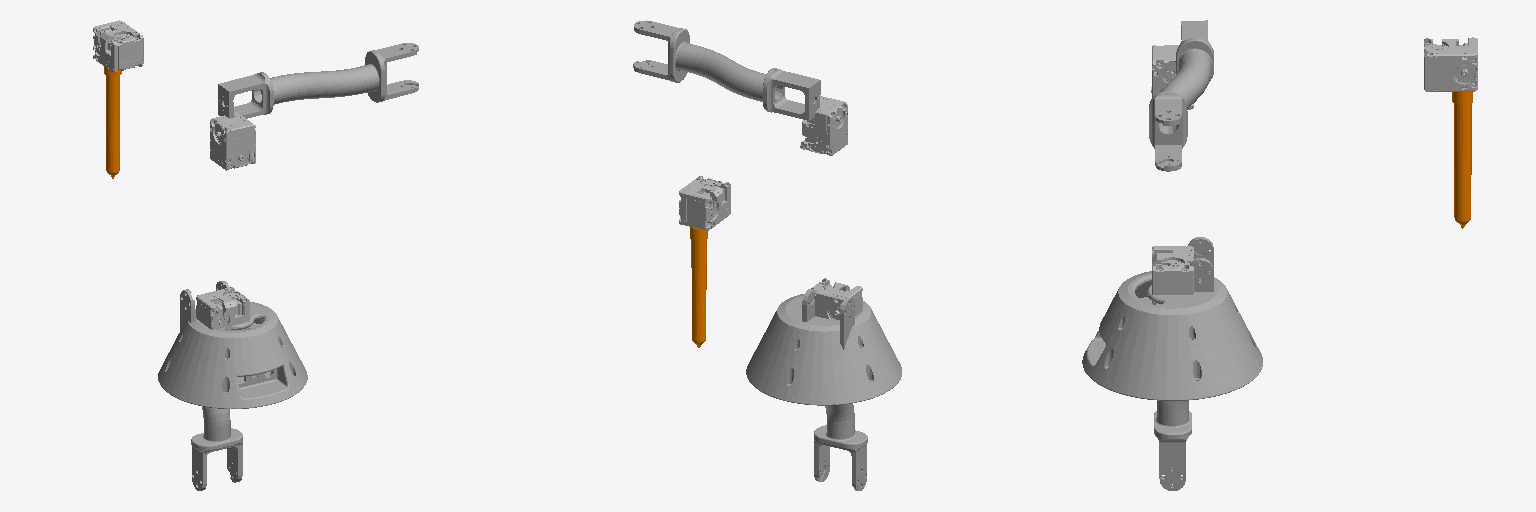
robot.urdf — manipulator:
<?xml version="1.0" encoding="utf-8"?>
<!-- This URDF was automatically created by SolidWorks to URDF Exporter! Originally created by [author] ([email redacted]) 
     Commit Version: 1.6.0-4-g7f85cfe  Build Version: 1.6.7995.38578
     For more information, please see http://wiki.ros.org/sw_urdf_exporter -->
<robot
  name="manipulator">
  <!-- Fix robot to Gazebo world -->
    <link name="world" />
    <joint name="world-base_link-fixed" type="fixed">
        <parent link="world" />
        <child link="base_link" />
        <origin rpy="0.0 0.0 0.0" xyz="0.0 0.0 0.0" />
    </joint>
  
  <link
    name="base_link">
    <inertial>
      <origin
        xyz="5.34102915090225E-06 0.00149611119634718 0.027324411040906"
        rpy="0 0 0" />
      <mass
        value="0.391381454473344" />
      <inertia
        ixx="0"
        ixy="0"
        ixz="0"
        iyy="0"
        iyz="0"
        izz="0" />
    </inertial>
    <visual>
      <origin
        xyz="0 0 0"
        rpy="0 0 0" />
      <geometry>
        <mesh
          filename="package://manipulator_description/meshes/base_link.STL" />
      </geometry>
      <material
        name="">
        <color
          rgba="0.698039215686274 0.698039215686274 0.698039215686274 1" />
      </material>
    </visual>
    <collision>
      <origin
        xyz="0 0 0"
        rpy="0 0 0" />
      <geometry>
        <mesh
          filename="package://manipulator_description/meshes/base_link.STL" />
      </geometry>
    </collision>
  </link>
  <link
    name="link_1">
    <inertial>
      <origin
        xyz="0.000495971250250978 -0.0119998499605218 0.0204959033777655"
        rpy="0 0 0" />
      <mass
        value="0.102" />
      <inertia
        ixx="0"
        ixy="0"
        ixz="0"
        iyy="0"
        iyz="0"
        izz="0" />
    </inertial>
    <visual>
      <origin
        xyz="0 0 0"
        rpy="0 0 0" />
      <geometry>
        <mesh
          filename="package://manipulator_description/meshes/link_1.STL" />
      </geometry>
      <material
        name="">
        <color
          rgba="0.752941176470588 0.752941176470588 0.752941176470588 1" />
      </material>
    </visual>
    <collision>
      <origin
        xyz="0 0 0"
        rpy="0 0 0" />
      <geometry>
        <mesh
          filename="package://manipulator_description/meshes/link_1.STL" />
      </geometry>
    </collision>
  </link>
  <joint
    name="joint_1"
    type="revolute">
    <origin
      xyz="0 0 0.0688"
      rpy="0 0 3.1416" />
    <parent
      link="base_link" />
    <child
      link="link_1" />
    <axis
      xyz="0 0 1" />
    <limit
      lower="-1.57"
      upper="1.57"
      effort="300"
      velocity="3" />
  </joint>
  <link
    name="link_2">
    <inertial>
      <origin
        xyz="-0.0117522388524779 0.099865169344438 3.09623365025784E-07"
        rpy="0 0 0" />
      <mass
        value="0.102283747087815" />
      <inertia
        ixx="512810000"
        ixy="108850000"
        ixz="380"
        iyy="56237000"
        iyz="2370"
        izz="523870000" />
    </inertial>
    <visual>
      <origin
        xyz="0 0 0"
        rpy="0 0 0" />
      <geometry>
        <mesh
          filename="package://manipulator_description/meshes/link_2.STL" />
      </geometry>
      <material
        name="">
        <color
          rgba="0.698039215686274 0.698039215686274 0.698039215686274 1" />
      </material>
    </visual>
    <collision>
      <origin
        xyz="0 0 0"
        rpy="0 0 0" />
      <geometry>
        <mesh
          filename="package://manipulator_description/meshes/link_2.STL" />
      </geometry>
    </collision>
  </link>
  <joint
    name="joint_2"
    type="revolute">
    <origin
      xyz="0 -0.024 0.02"
      rpy="1.5708 0 -1.5708" />
    <parent
      link="link_1" />
    <child
      link="link_2" />
    <axis
      xyz="0 0 1" />
    <limit
      lower="-0.78"
      upper="0.78"
      effort="300"
      velocity="3" />
  </joint>
  <link
    name="link_3">
    <inertial>
      <origin
        xyz="0.000495971402698712 -0.0119998503185919 0.000495878377765541"
        rpy="0 0 0" />
      <mass
        value="0.102" />
      <inertia
        ixx="26860"
        ixy="525.09"
        ixz="287.62"
        iyy="16993"
        iyz="-523.85"
        izz="26995" />
    </inertial>
    <visual>
      <origin
        xyz="0 0 0"
        rpy="0 0 0" />
      <geometry>
        <mesh
          filename="package://manipulator_description/meshes/link_3.STL" />
      </geometry>
      <material
        name="">
        <color
          rgba="0.752941176470588 0.752941176470588 0.752941176470588 1" />
      </material>
    </visual>
    <collision>
      <origin
        xyz="0 0 0"
        rpy="0 0 0" />
      <geometry>
        <mesh
          filename="package://manipulator_description/meshes/link_3.STL" />
      </geometry>
    </collision>
  </link>
  <joint
    name="joint_3"
    type="revolute">
    <origin
      xyz="-0.024 0.195 0"
      rpy="0 0 3.1416" />
    <parent
      link="link_2" />
    <child
      link="link_3" />
    <axis
      xyz="0 0 1" />
    <limit
      lower="-1.15"
      upper="2"
      effort="300"
      velocity="3" />
  </joint>
  <link
    name="link_4">
    <inertial>
      <origin
        xyz="0.0118962971363374 0.106115026058573 4.33165647320523E-07"
        rpy="0 0 0" />
      <mass
        value="0.105070462984835" />
      <inertia
        ixx="1573100000"
        ixy="195670000"
        ixz="40"
        iyy="51205000"
        iyz="1350"
        izz="1589800000"/>
    </inertial>
    <visual>
      <origin
        xyz="0 0 0"
        rpy="0 0 0" />
      <geometry>
        <mesh
          filename="package://manipulator_description/meshes/link_4.STL" />
      </geometry>
      <material
        name="">
        <color
          rgba="0.698039215686274 0.698039215686274 0.698039215686274 1" />
      </material>
    </visual>
    <collision>
      <origin
        xyz="0 0 0"
        rpy="0 0 0" />
      <geometry>
        <mesh
          filename="package://manipulator_description/meshes/link_4.STL" />
      </geometry>
    </collision>
  </link>
  <joint
    name="joint_4"
    type="revolute">
    <origin
      xyz="-0.019 -0.024 0"
      rpy="0 0 1.5708" />
    <parent
      link="link_3" />
    <child
      link="link_4" />
    <axis
      xyz="0 1 0" />
    <limit
      lower="-3.14"
      upper="3.14"
      effort="200"
      velocity="3" />
  </joint>
  <link
    name="link_5">
    <inertial>
      <origin
        xyz="0.000495971250250887 0.0120001503975483 0.000495878530213656"
        rpy="0 0 0" />
      <mass
        value="0.0982" />
      <inertia
        ixx="26860"
        ixy="525.09"
        ixz="287.62"
        iyy="16993"
        iyz="-523.85"
        izz="26995" />
    </inertial>
    <visual>
      <origin
        xyz="0 0 0"
        rpy="0 0 0" />
      <geometry>
        <mesh
          filename="package://manipulator_description/meshes/link_5.STL" />
      </geometry>
      <material
        name="">
        <color
          rgba="0.752941176470588 0.752941176470588 0.752941176470588 1" />
      </material>
    </visual>
    <collision>
      <origin
        xyz="0 0 0"
        rpy="0 0 0" />
      <geometry>
        <mesh
          filename="package://manipulator_description/meshes/link_5.STL" />
      </geometry>
    </collision>
  </link>
  <joint
    name="joint_5"
    type="revolute">
    <origin
      xyz="0.024 0.2085 0"
      rpy="0 -1.5708 0" />
    <parent
      link="link_4" />
    <child
      link="link_5" />
    <axis
      xyz="1 0 0" />
    <limit
      lower="-1.15"
      upper="2"
      effort="200"
      velocity="3" />
  </joint>
  <link
    name="link_6">
    <inertial>
      <origin
        xyz="1.27935106952748E-10 -1.49986290117875E-05 0.0091913137007949"
        rpy="0 0 0" />
      <mass
        value="0.00405886351711359" />
      <inertia
        ixx="3316900"
        ixy="-10"
        ixz="0"
        iyy="3315500"
        iyz="0"
        izz="185540" />
    </inertial>
    <visual>
      <origin
        xyz="0 0 0"
        rpy="0 0 0" />
      <geometry>
        <mesh
          filename="package://manipulator_description/meshes/link_6.STL" />
      </geometry>
      <material
        name="">
        <color
          rgba="1 0.549019607843137 0 1" />
      </material>
    </visual>
    <collision>
      <origin
        xyz="0 0 0"
        rpy="0 0 0" />
      <geometry>
        <mesh
          filename="package://manipulator_description/meshes/link_6.STL" />
      </geometry>
    </collision>
  </link>
  <joint
    name="joint_6"
    type="revolute">
    <origin
      xyz="0 0.024 -0.019"
      rpy="3.1416 0 -1.5354" />
    <parent
      link="link_5" />
    <child
      link="link_6" />
    <axis
      xyz="0 0 1" />
    <limit
      lower="-3.14"
      upper="3.14"
      effort="200"
      velocity="3" />
  </joint>

   <!-- transmission list -->
  <transmission name="link_1_trans">
    <type>transmission_interface/SimpleTransmission</type>
    <joint name="joint_1">
      <hardwareInterface>hardware_interface/PositionJointInterface</hardwareInterface>
    </joint>
    <actuator name="link_1_motor">
      <hardwareInterface>hardware_interface/PositionJointInterface</hardwareInterface>
      <mechanicalReduction>1</mechanicalReduction>
    </actuator>
  </transmission>
  <transmission name="link_2_trans">
    <type>transmission_interface/SimpleTransmission</type>
    <joint name="joint_2">
      <hardwareInterface>hardware_interface/PositionJointInterface</hardwareInterface>
    </joint>
    <actuator name="link_2_motor">
      <hardwareInterface>hardware_interface/PositionJointInterface</hardwareInterface>
      <mechanicalReduction>1</mechanicalReduction>
    </actuator>
  </transmission>
  <transmission name="link_3_trans">
    <type>transmission_interface/SimpleTransmission</type>
    <joint name="joint_3">
      <hardwareInterface>hardware_interface/PositionJointInterface</hardwareInterface>
    </joint>
    <actuator name="link_3_motor">
      <hardwareInterface>hardware_interface/PositionJointInterface</hardwareInterface>
      <mechanicalReduction>1</mechanicalReduction>
    </actuator>
  </transmission>
  <transmission name="link_4_trans">
    <type>transmission_interface/SimpleTransmission</type>
    <joint name="joint_4">
      <hardwareInterface>hardware_interface/PositionJointInterface</hardwareInterface>
    </joint>
    <actuator name="link_4_motor">
      <hardwareInterface>hardware_interface/PositionJointInterface</hardwareInterface>
      <mechanicalReduction>1</mechanicalReduction>
    </actuator>
  </transmission>
  <transmission name="link_5_trans">
    <type>transmission_interface/SimpleTransmission</type>
    <joint name="joint_5">
      <hardwareInterface>hardware_interface/PositionJointInterface</hardwareInterface>
    </joint>
    <actuator name="link_5_motor">
      <hardwareInterface>hardware_interface/PositionJointInterface</hardwareInterface>
      <mechanicalReduction>1</mechanicalReduction>
    </actuator>
  </transmission>
  <transmission name="link_6_trans">
    <type>transmission_interface/SimpleTransmission</type>
    <joint name="joint_6">
      <hardwareInterface>hardware_interface/PositionJointInterface</hardwareInterface>
    </joint>
    <actuator name="link_6_motor">
      <hardwareInterface>hardware_interface/PositionJointInterface</hardwareInterface>
      <mechanicalReduction>1</mechanicalReduction>
    </actuator>
  </transmission>
  <!-- end of transmission list -->

  
  <!-- Gazebo-specific link properties -->
  <gazebo reference="link_1">
    <selfCollide>true</selfCollide>
    <material>Gazebo/Black</material>
  </gazebo>
  <gazebo reference="link_2">
    <selfCollide>true</selfCollide>
    <material>Gazebo/Orange</material>
  </gazebo>
  <gazebo reference="link_3">
    <selfCollide>true</selfCollide>
    <material>Gazebo/Black</material>
  </gazebo>
  <gazebo reference="link_4">
    <selfCollide>true</selfCollide>
    <material>Gazebo/Orange</material>
  </gazebo>
  <gazebo reference="link_5">
    <selfCollide>true</selfCollide>
    <material>Gazebo/Black</material>
  </gazebo>
  <gazebo reference="link_6">
    <selfCollide>true</selfCollide>
  </gazebo>
  <!-- ros_control plugin -->
  <gazebo>
    <plugin filename="libgazebo_ros_control.so" name="control">
      <robotNamespace>/</robotNamespace>
      <robotSimType>gazebo_ros_control/DefaultRobotHWSim</robotSimType>
    </plugin>
  </gazebo>
</robot>

--- What the picture shows (computed from the rendered views, not written in the file) ---
The picture shows the robot from 3 angles, left to right: view 1: azimuth 30°, elevation 25°; view 2: azimuth 150°, elevation 25°; view 3: azimuth 270°, elevation 25°; orthographic projection.
Robot: manipulator — 8 links, 7 joints (6 revolute, 1 fixed); root link world; default pose: all joints at 0.
Visible links, largest first — view 1: base_link, link_4, link_2, link_3, link_5, link_1, link_6; view 2: base_link, link_4, link_2, link_5, link_3, link_6, link_1; view 3: base_link, link_4, link_2, link_5, link_6, link_1, link_3.
Link boxes in pixels (x1,y1,x2,y2): base_link: [158, 302, 307, 408]; link_4: [218, 43, 418, 118]; link_2: [180, 281, 242, 490]; link_3: [210, 112, 255, 170]; link_5: [93, 20, 143, 72]; link_1: [196, 287, 249, 330]; link_6: [104, 67, 121, 178]; base_link: [746, 294, 901, 405]; link_4: [633, 20, 820, 120]; link_2: [802, 289, 867, 490]; link_5: [679, 176, 730, 230]; link_3: [800, 96, 847, 155]; link_6: [690, 227, 707, 347]; link_1: [811, 278, 862, 319]; base_link: [1082, 271, 1262, 400]; link_4: [1149, 20, 1213, 171]; link_2: [1154, 237, 1213, 490]; link_5: [1424, 37, 1477, 91]; link_6: [1452, 92, 1472, 228]; link_1: [1152, 246, 1193, 304]; link_3: [1151, 45, 1193, 109].
Size in the robot's own frame: 0.2982 by 0.3409 by 0.4563 metres.
7 mesh visuals loaded from 7 distinct referenced files (7 binary STL).
